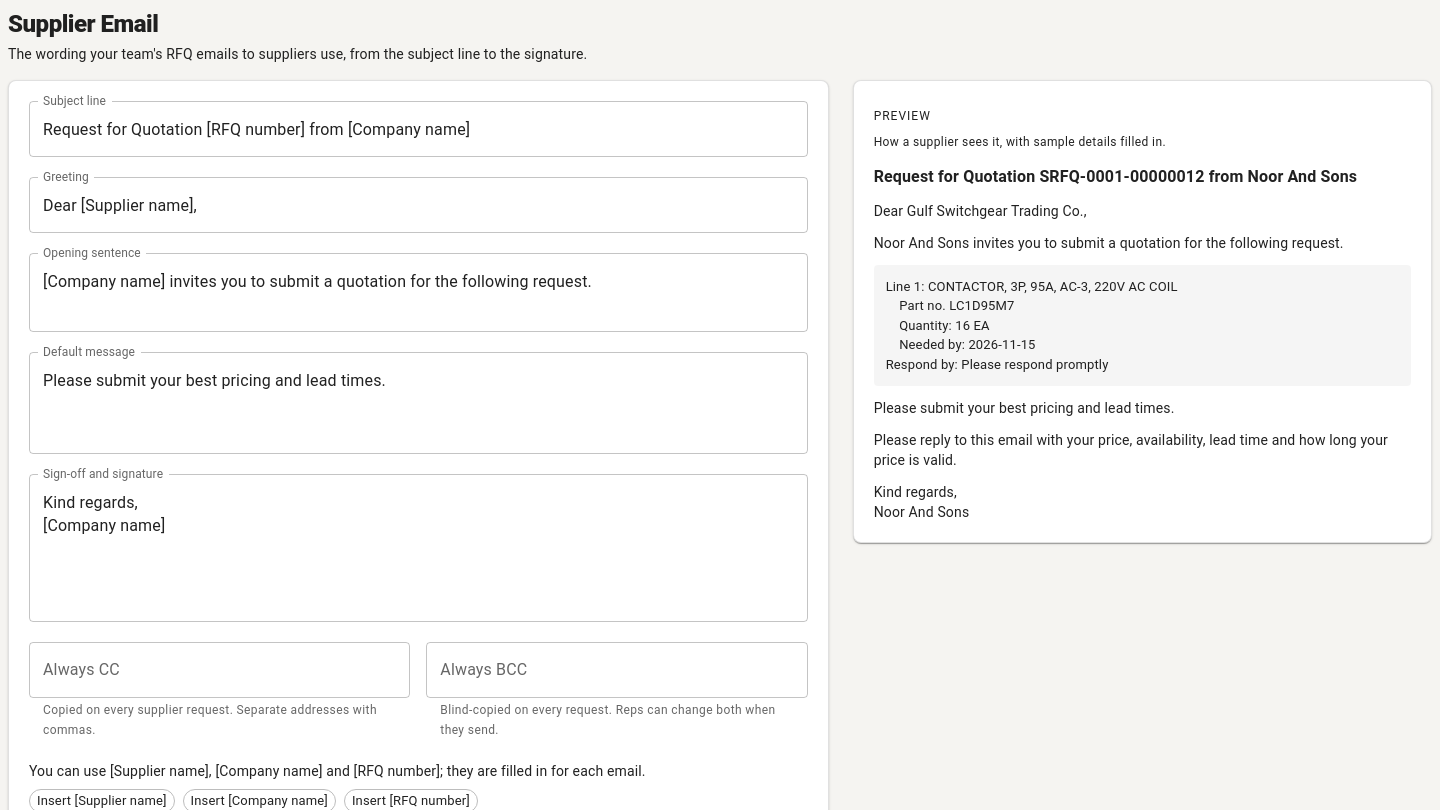
Setup › Supplier Email › fills the placeholders in the preview as the admin types
Expected: the text with test id "preview-subject" reads "Request for Quotation SRFQ-0001-00000012 from Noor And Sons", [874,167,1357,186]
Replace the text in the field labelled "Greeting" with "Salaam [Supplier name] team," at {"x": 418, "y": 205}, box [29,177,808,233]
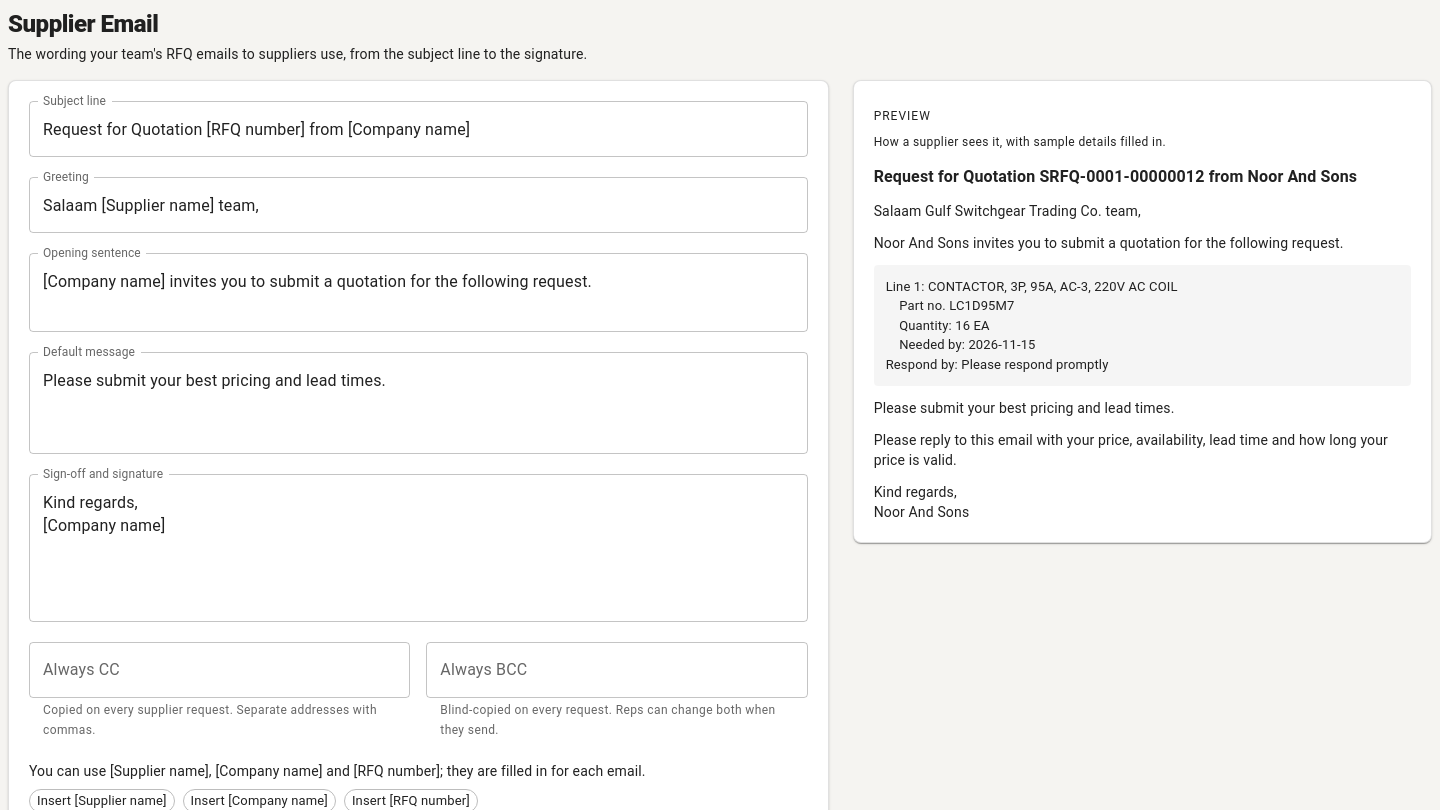
Replace the text in the text box labelled "Default message" with "Quote [RFQ number] by Thursday please." at {"x": 418, "y": 403}, box [43,368,794,438]
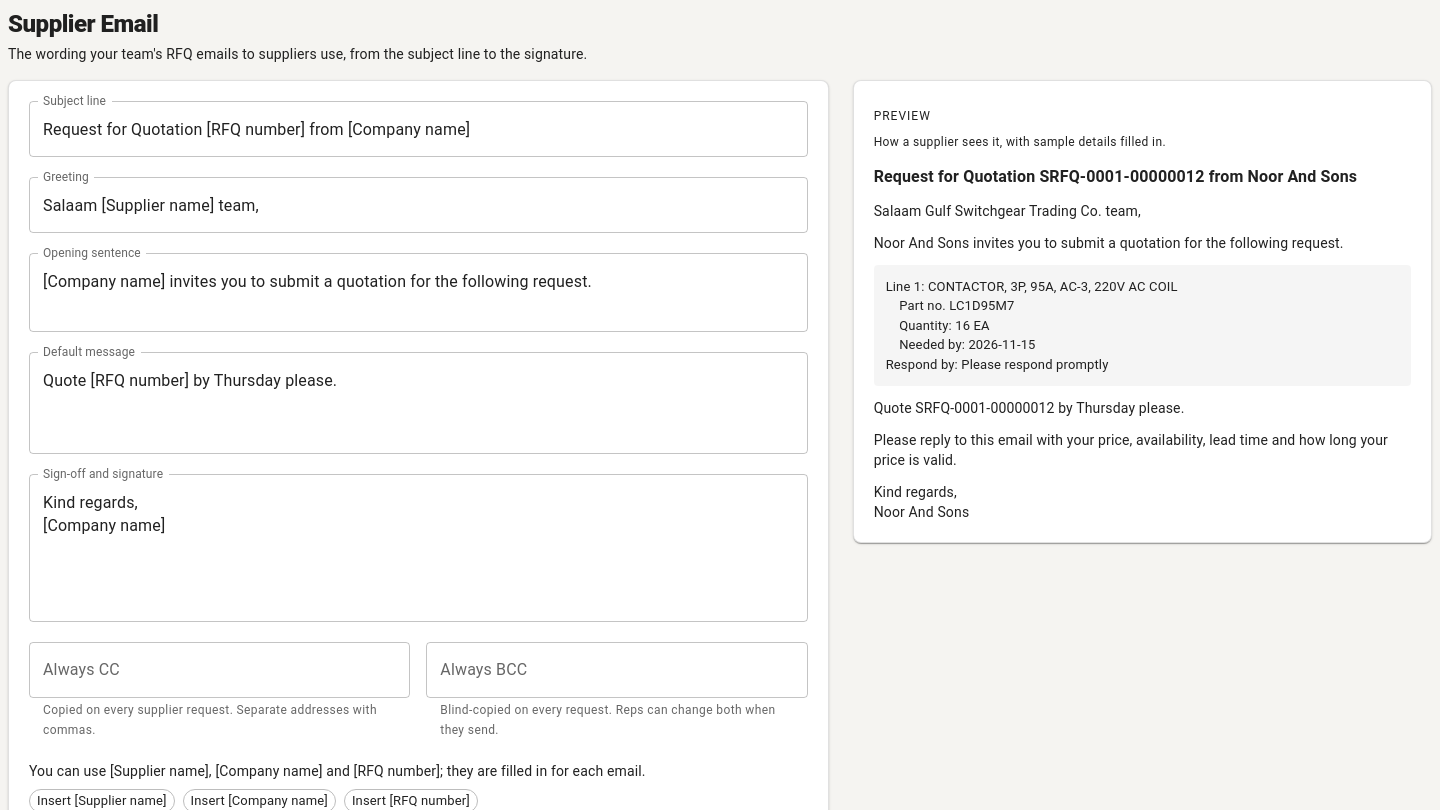
Expected: the element with test id "supplier-email-preview" shows "Part no. LC1D95M7", [886,279,1178,372]
Expected: the element with test id "supplier-email-preview" shows "Salaam Gulf Switchgear Trading Co. team,", [874,203,1141,219]
Expected: the element with test id "supplier-email-preview" shows "Quote SRFQ-0001-00000012 by Thursday please.", [874,400,1185,416]
